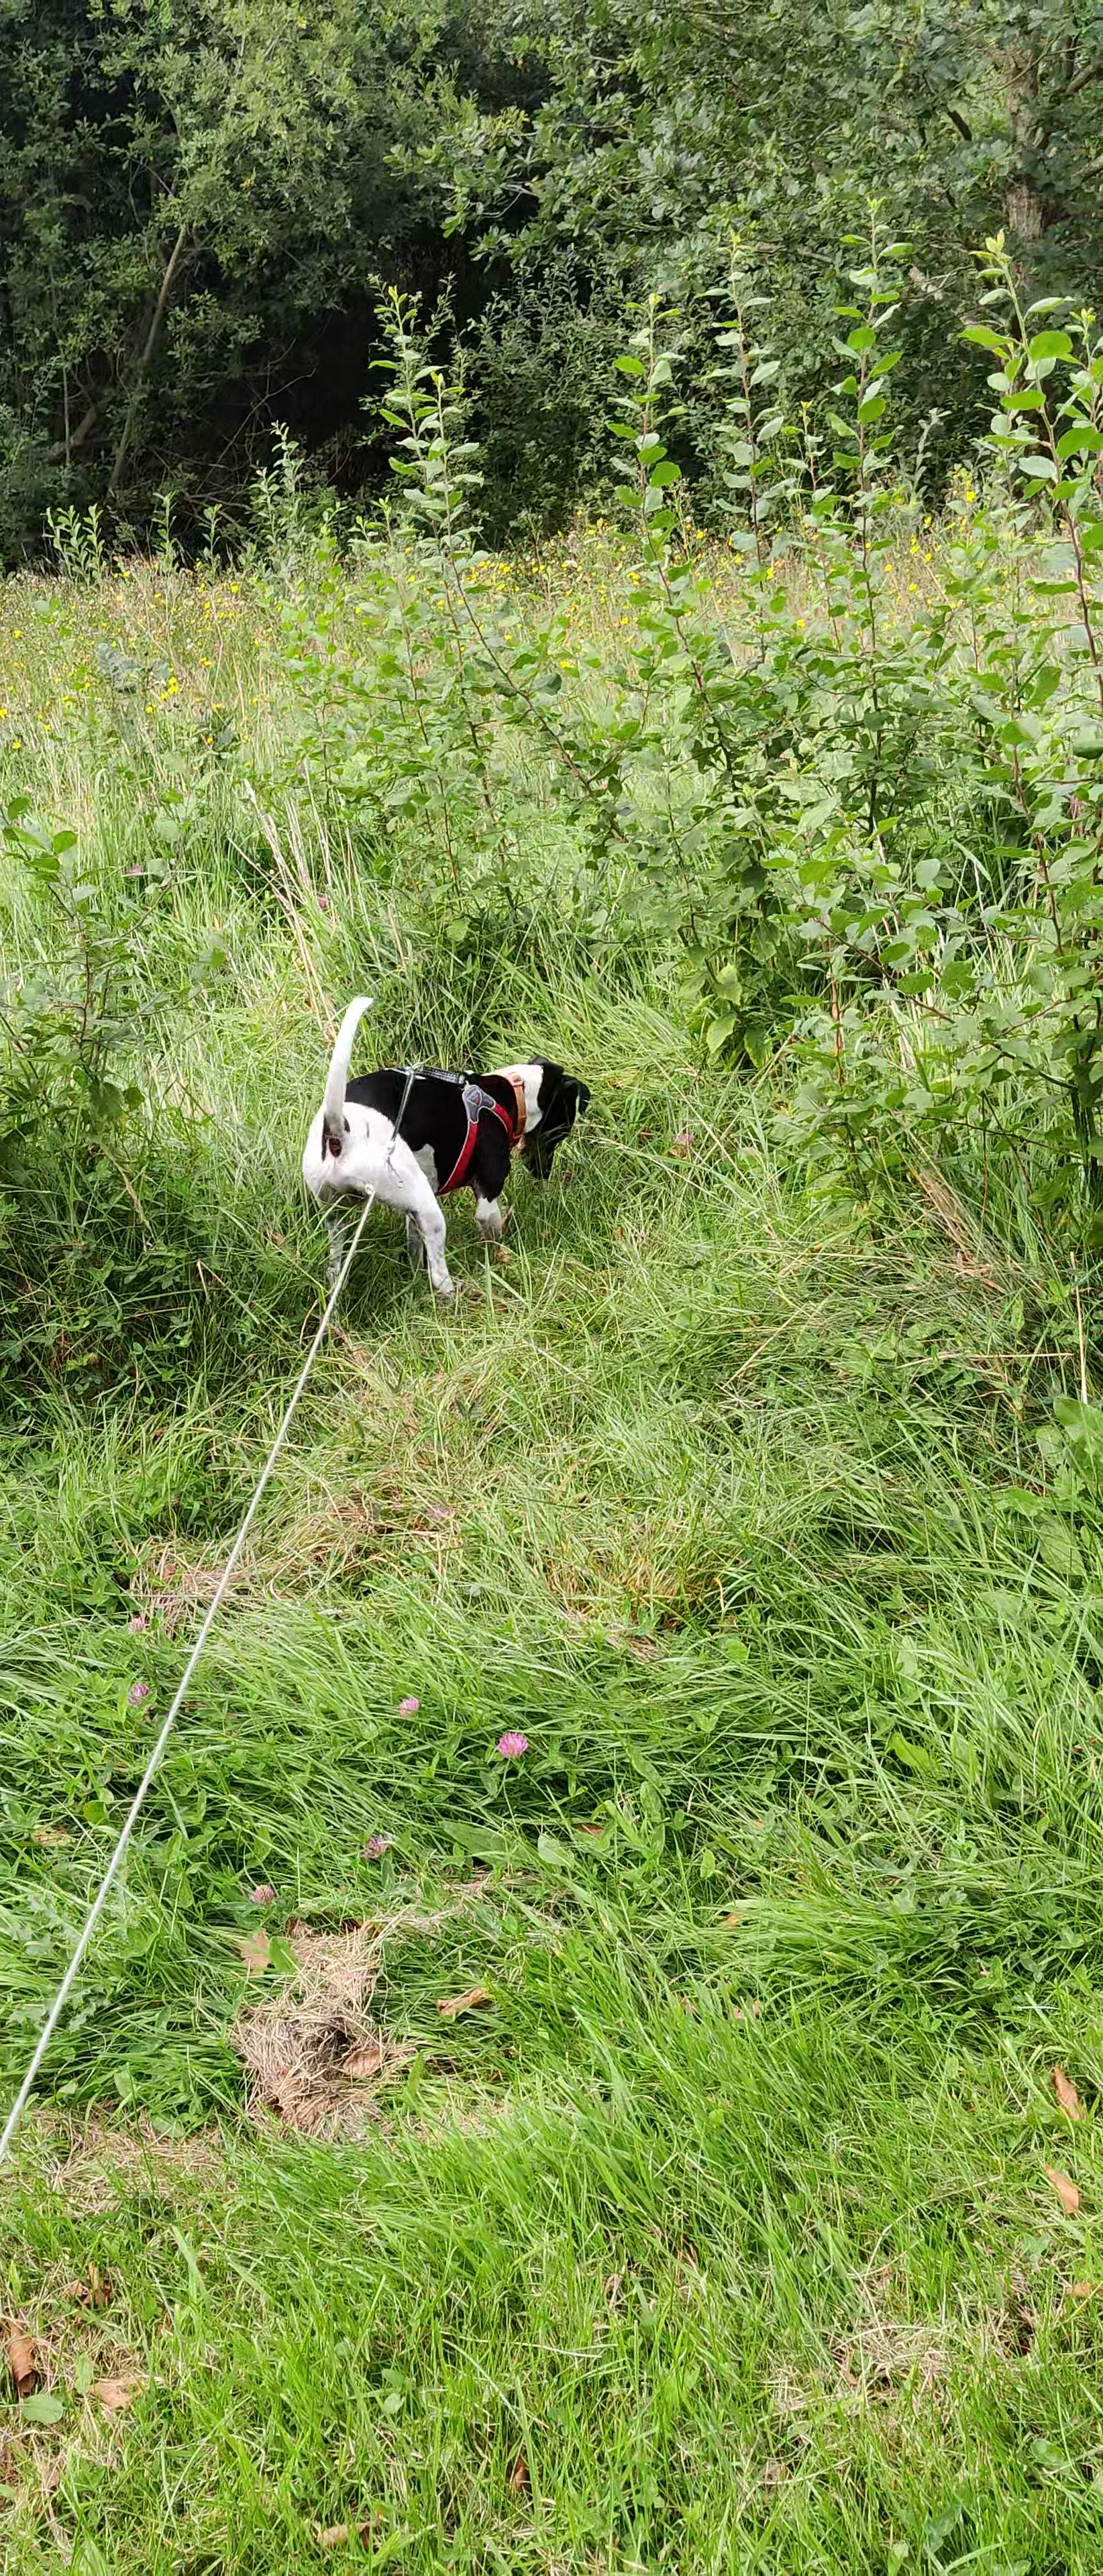Dog: (296, 987, 598, 1316)
